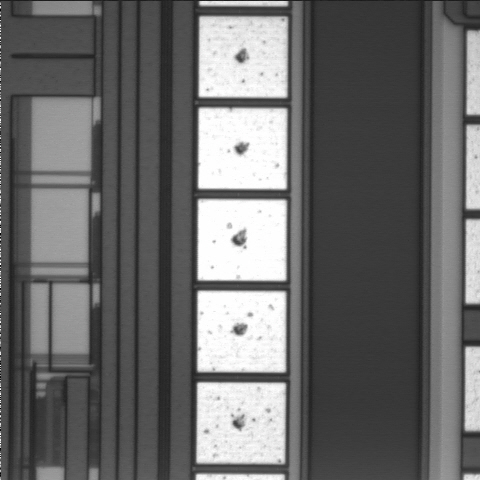pad: (198, 199, 287, 281), (197, 382, 286, 464), (198, 108, 287, 189), (197, 291, 286, 372), (199, 17, 287, 98)
